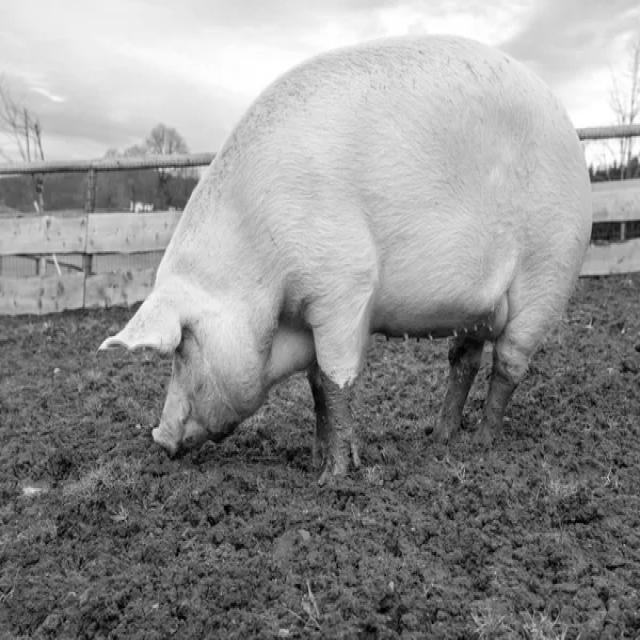Animal: (101, 35, 593, 476)
